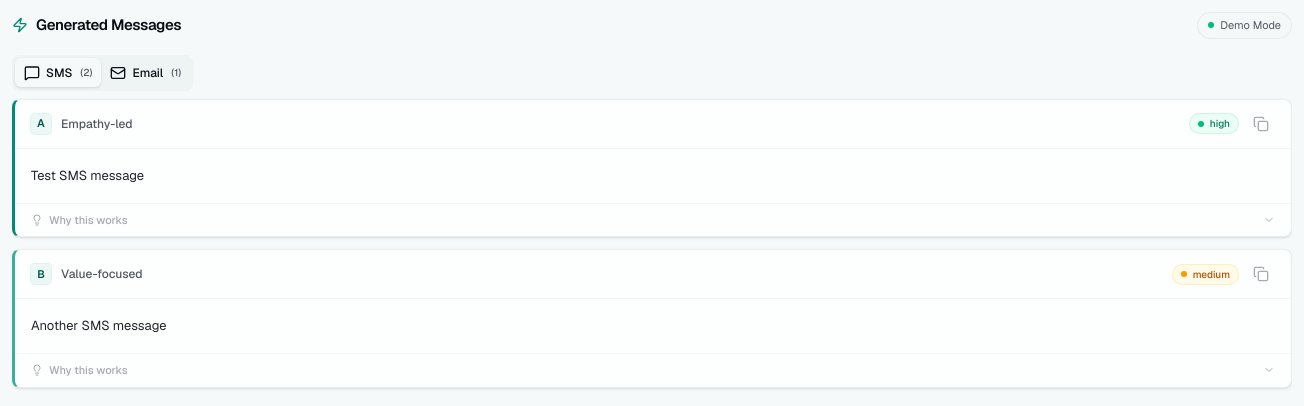
Test: MessageOutput › shows email subject line when Email tab is clicked
The width and height of the screenshot is (1304, 406).
Click the tab "Email (1)".
click(146, 72)  # box top-left (101, 58), bottom-right (190, 87)
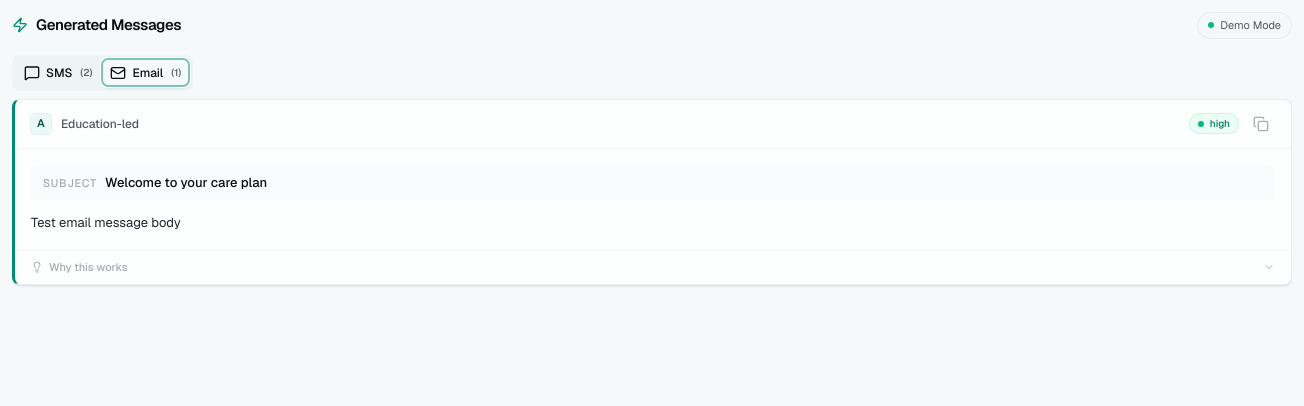
Expected: the text "Welcome to your care plan" is shown, top-left (105, 172), bottom-right (267, 192)
